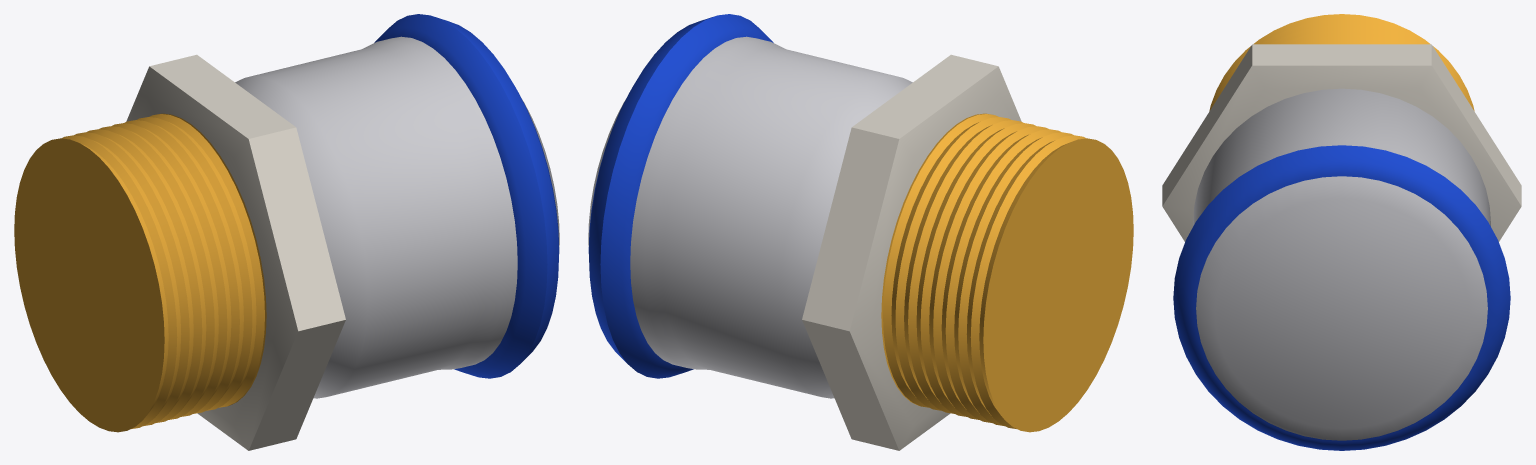
File: fitting_adp_28x1_M.glb
3 renders of one model, left to right at view 1: azimuth 30°, elevation 25°; view 2: azimuth 150°, elevation 25°; view 3: azimuth 270°, elevation 25°, orthographic. The views are drawn at different scales.
Visible parts, largest first — view 1: резьба НР, раструб, шестигранник переходника, кольцо пресс; view 2: резьба НР, раструб, шестигранник переходника, кольцо пресс; view 3: раструб, кольцо пресс, шестигранник переходника, резьба НР.
Part boxes in pixels (x1,y1,x2,y2): резьба НР: [14, 113, 266, 432]; раструб: [235, 36, 559, 398]; шестигранник переходника: [126, 54, 345, 450]; кольцо пресс: [374, 14, 559, 378]; резьба НР: [881, 113, 1133, 432]; раструб: [588, 36, 912, 398]; шестигранник переходника: [802, 54, 1021, 450]; кольцо пресс: [588, 14, 773, 378]; раструб: [1193, 88, 1490, 440]; кольцо пресс: [1173, 145, 1510, 450]; шестигранник переходника: [1162, 44, 1521, 241]; резьба НР: [1209, 14, 1474, 110].
Bounding box in the file's own units: 0.051 × 0.0412 × 0.0439.
